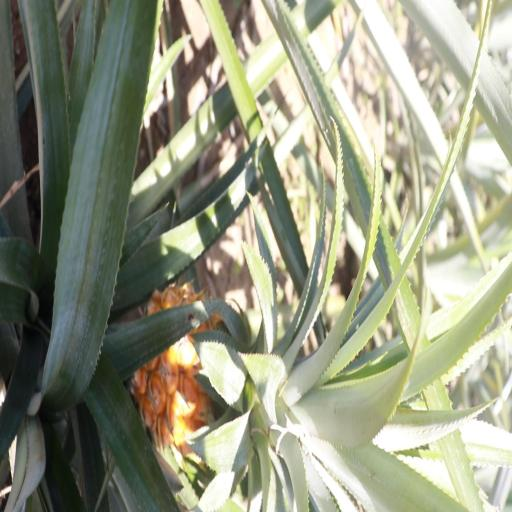Pineapple - v8 v1: (133, 293, 414, 490)
